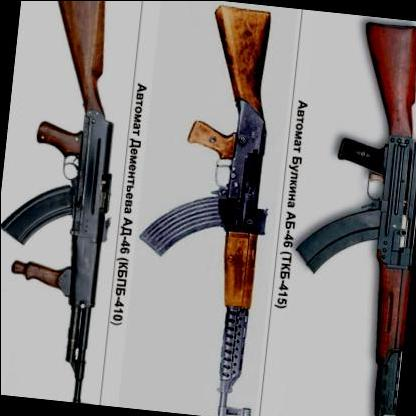rifle: (127, 1, 299, 416), (276, 16, 416, 416), (0, 0, 138, 405)
